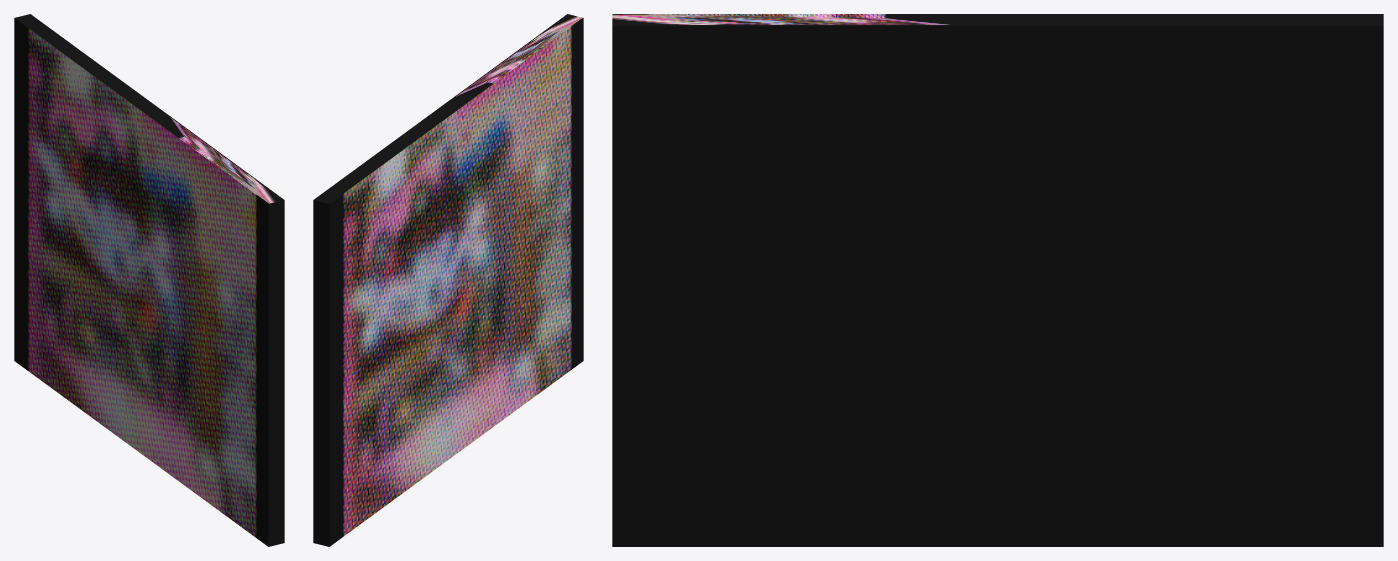
The model's file is Poster3.fbx.
The picture shows the model from 3 angles, left to right: view 1: azimuth 30°, elevation 25°; view 2: azimuth 150°, elevation 25°; view 3: azimuth 270°, elevation 25°; orthographic projection. The views are drawn at different scales.
Visible parts, largest first — view 1: BlenderBridge.086; view 2: BlenderBridge.086; view 3: BlenderBridge.086.
Part boxes in pixels (x1,y1,x2,y2): BlenderBridge.086: [14, 14, 284, 546]; BlenderBridge.086: [313, 14, 583, 546]; BlenderBridge.086: [612, 14, 1383, 546].
Bounding box in the file's own units: 3.9 × 79.62 × 107.
